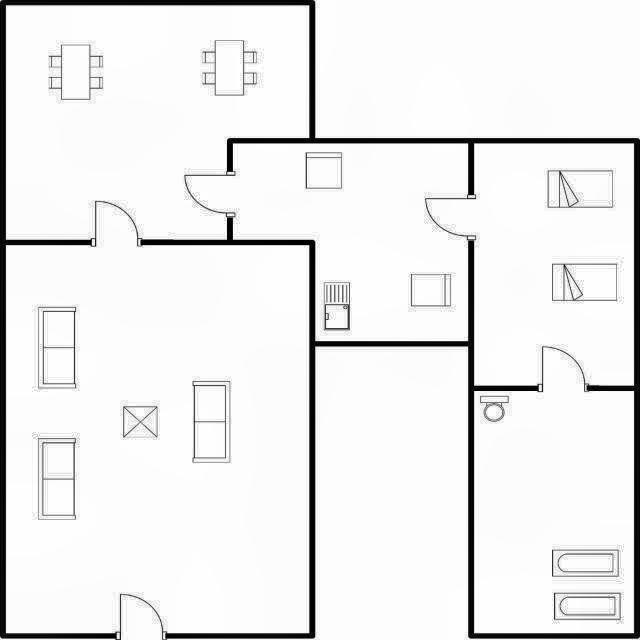room: (6, 245, 309, 633), (6, 5, 309, 240), (233, 143, 468, 341), (474, 143, 634, 386), (474, 391, 634, 633)
